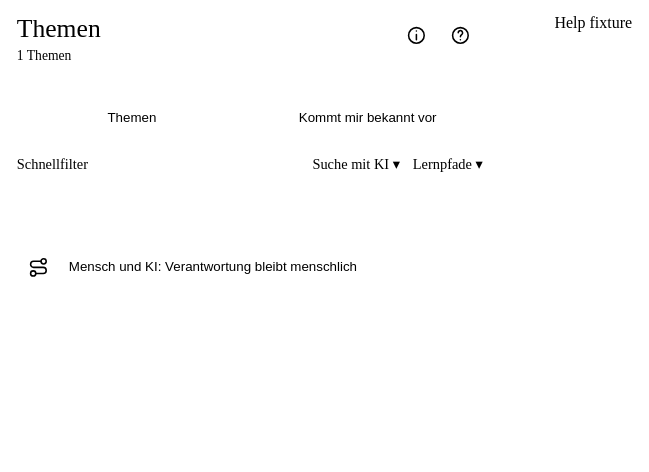
Test: TopicBrowser › shows every matching path without a fixed path limit
The image size is (649, 472).
Click the button named "Lernpfade von Mensch und KI: Verantwortung bleibt menschlich filtern" at (39, 267), box [17,245,61,289]
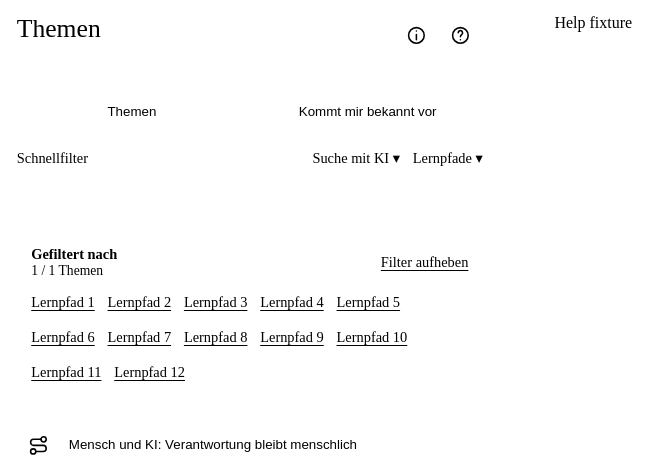
expect the number of buttons "Lernpfad 1" is 12: met
expect the text "1 / 1 Themen" is shown: met, box [31,263,103,278]
